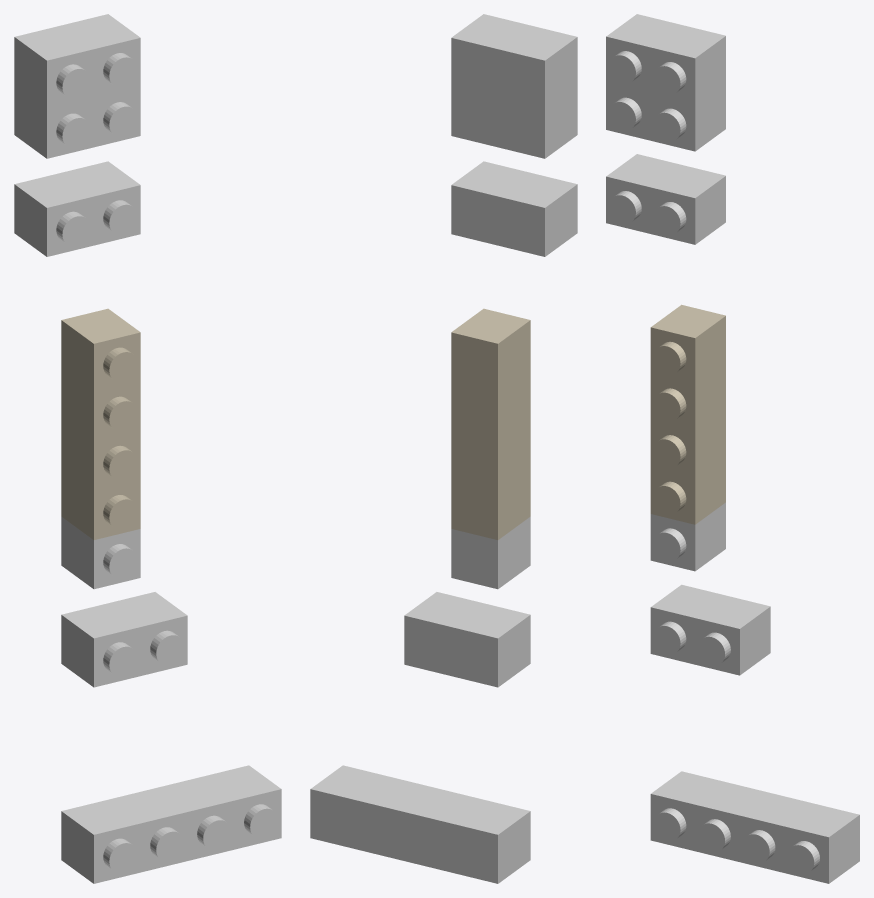
File: current.glb
3 renders of one model, left to right at view 1: azimuth 30°, elevation 25°; view 2: azimuth 150°, elevation 25°; view 3: azimuth 330°, elevation 25°, orthographic. The views are drawn at different scales.
Parts seen in each view (by area): view 1: world; view 2: world; view 3: world.
Part boxes in pixels (x1,y1,x2,y2): world: (14, 14, 281, 883); world: (310, 14, 577, 883); world: (606, 14, 859, 883).
Bounding box in the file's own units: 40 × 136 × 11.4.
